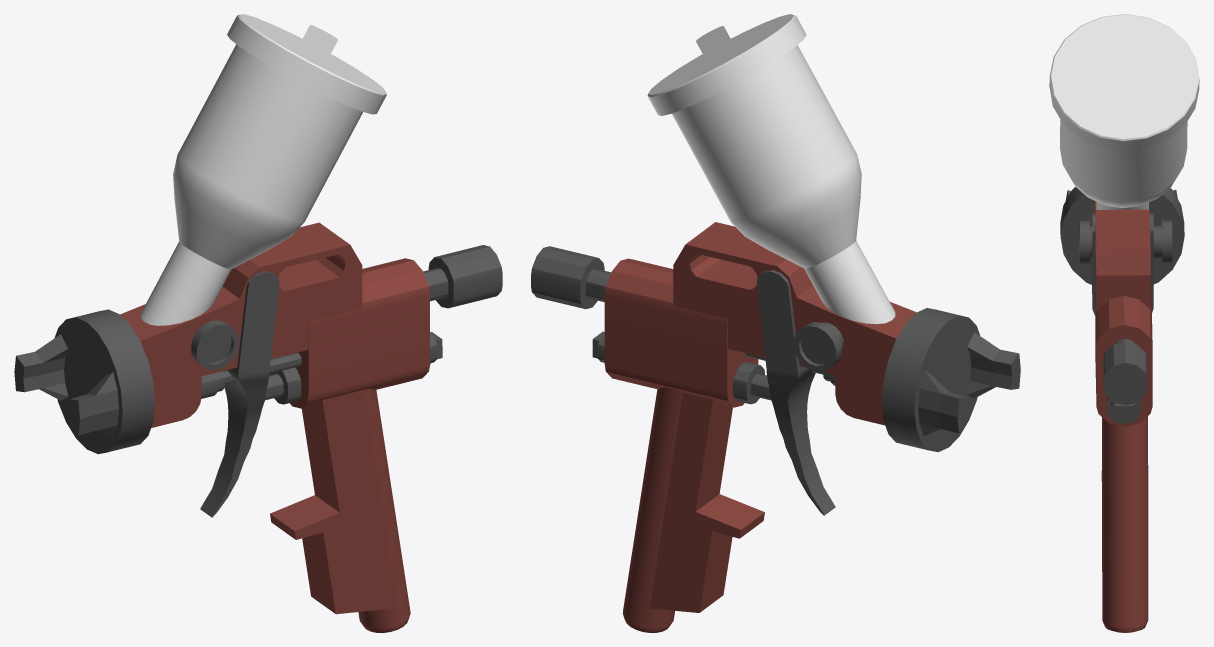
The model's file is spray gun.fbx.
The picture shows the model from 3 angles, left to right: view 1: azimuth 30°, elevation 25°; view 2: azimuth 150°, elevation 25°; view 3: azimuth 270°, elevation 25°; orthographic projection. The views are drawn at different scales.
Visible parts, largest first — view 1: polySurface11; view 2: polySurface11; view 3: polySurface11.
Boxes of the visible parts, x1=… form: polySurface11: x1=14, y1=14, x2=502, y2=632; polySurface11: x1=531, y1=14, x2=1020, y2=632; polySurface11: x1=1049, y1=14, x2=1199, y2=632.
Size of the model in its own units: 71.37 by 96.71 by 23.54.
